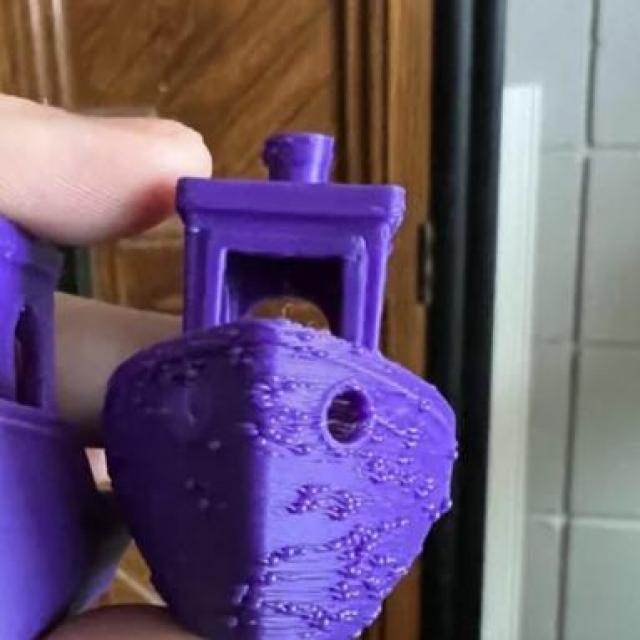zits: (251, 379, 280, 411), (284, 492, 318, 516), (233, 414, 263, 438), (357, 532, 382, 560), (200, 436, 228, 460), (225, 342, 248, 369), (230, 584, 252, 608), (194, 492, 218, 514), (334, 575, 356, 597), (340, 486, 360, 508), (332, 526, 354, 546), (223, 614, 243, 634), (256, 552, 280, 568), (308, 481, 333, 495), (282, 375, 300, 394), (404, 418, 421, 438), (384, 518, 402, 536), (283, 542, 300, 561), (436, 498, 456, 514), (294, 442, 316, 456), (355, 521, 371, 540), (300, 330, 318, 344), (404, 434, 419, 450), (426, 498, 438, 516), (268, 574, 281, 589)
